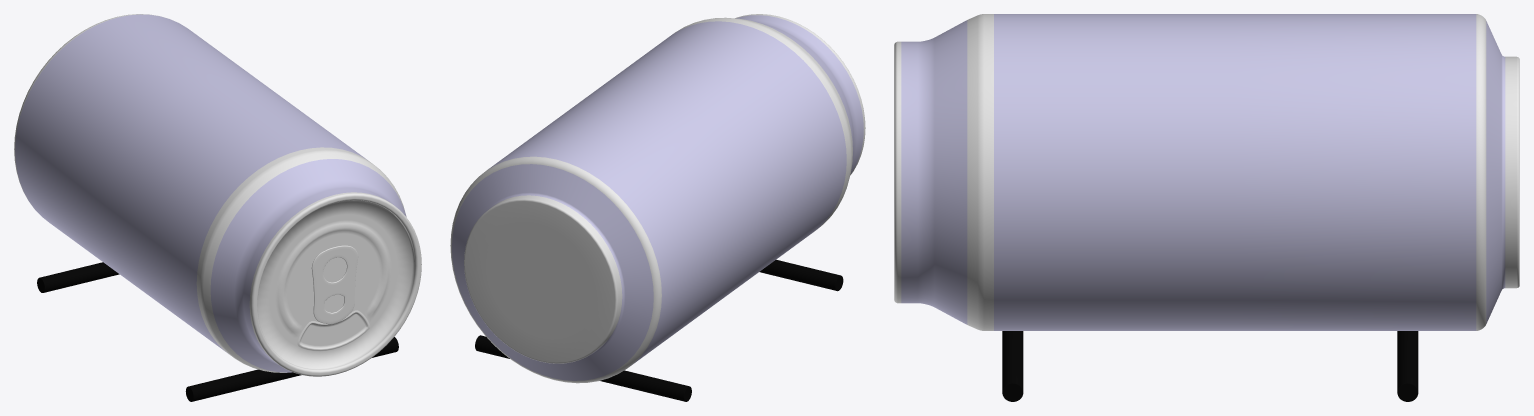
Rendered from New Chroma Can.fbx.
The picture shows the model from 3 angles, left to right: view 1: azimuth 30°, elevation 25°; view 2: azimuth 150°, elevation 25°; view 3: azimuth 270°, elevation 25°; orthographic projection. The views are drawn at different scales.
Parts seen in each view (by area): view 1: New Chroma Can; view 2: New Chroma Can; view 3: New Chroma Can.
Boxes of the visible parts, x1,y1,x2,y2 form: New Chroma Can: [14, 14, 421, 401]; New Chroma Can: [450, 14, 865, 401]; New Chroma Can: [894, 14, 1519, 401].
Size of the model in its own units: 16.13 by 17.24 by 31.81.
